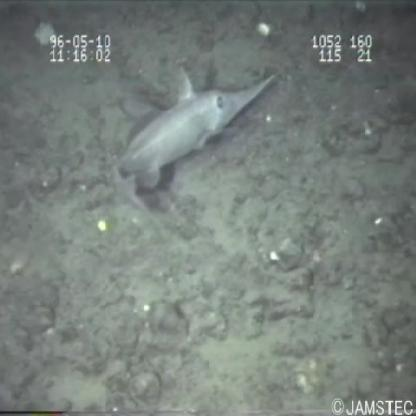Bio: (110, 60, 278, 239)
